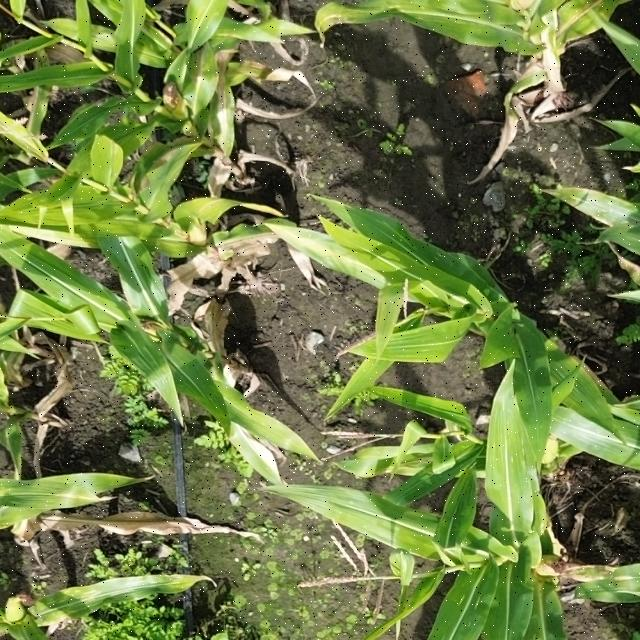gray-leaf-spot: (125, 344, 211, 406)
northern-leaf-blight: (133, 151, 181, 213)
southern-leaf-blight: (378, 218, 508, 308), (483, 396, 554, 500)
